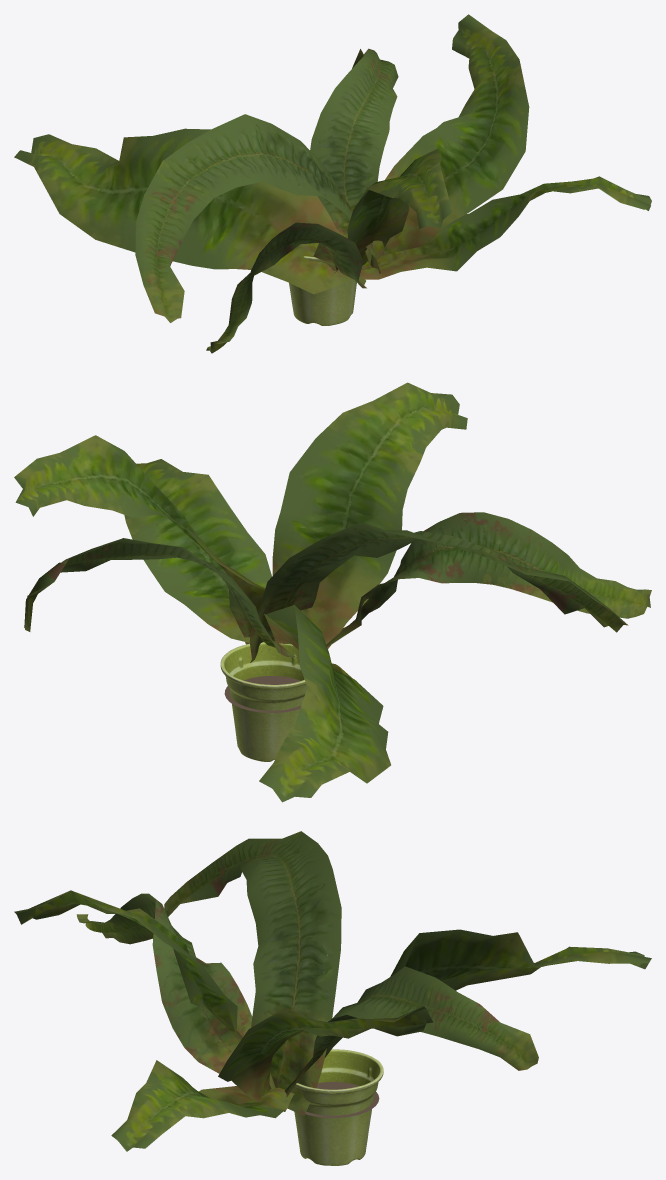
The model's file is ph-fern-avocado.glb.
The picture shows the model from 3 angles, top to bottom: view 1: azimuth 30°, elevation 25°; view 2: azimuth 150°, elevation 25°; view 3: azimuth 270°, elevation 25°; orthographic projection. The views are drawn at different scales.
Visible parts, largest first — view 1: fern_02_d, Ecoforms_Plant_Pot_GP9AAvocado; view 2: fern_02_d, Ecoforms_Plant_Pot_GP9AAvocado, soil; view 3: fern_02_d, Ecoforms_Plant_Pot_GP9AAvocado, soil.
Part boxes in pixels (x1,y1,x2,y2): fern_02_d: (14, 14, 651, 353); Ecoforms_Plant_Pot_GP9AAvocado: (289, 256, 356, 325); fern_02_d: (14, 382, 651, 802); Ecoforms_Plant_Pot_GP9AAvocado: (220, 642, 307, 761); soil: (224, 676, 301, 712); fern_02_d: (14, 831, 651, 1151); Ecoforms_Plant_Pot_GP9AAvocado: (294, 1049, 383, 1165); soil: (305, 1082, 379, 1117).
Size of the model in its own units: 0.5728 by 0.2699 by 0.5933.
Materials: 3 (2 with a texture image).
